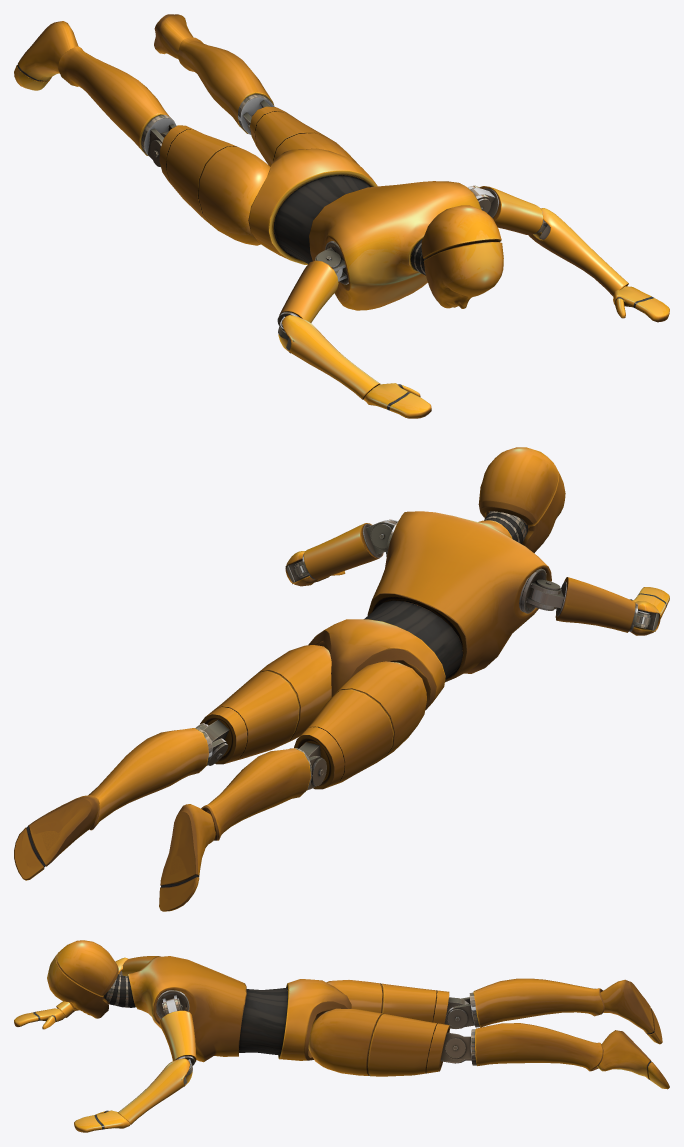
Rendered from Survivor Female.dae.
3 renders of one model, top to bottom at view 1: azimuth 30°, elevation 25°; view 2: azimuth 150°, elevation 25°; view 3: azimuth 270°, elevation 25°, orthographic. The views are drawn at different scales.
Parts seen in each view (by area): view 1: Survivor_Female; view 2: Survivor_Female; view 3: Survivor_Female.
Part boxes in pixels (box(x1,y1,x2,y2)): Survivor_Female: box(14, 14, 669, 418); Survivor_Female: box(14, 447, 669, 911); Survivor_Female: box(14, 940, 669, 1132).
Bounding box in the file's own units: 84.56 × 179 × 34.85.
